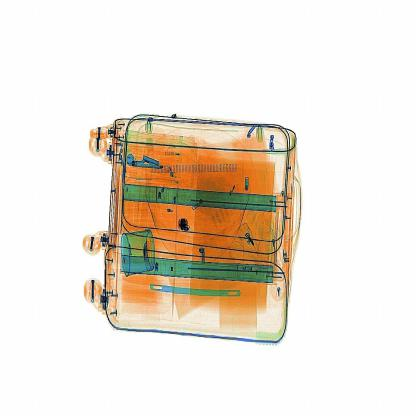scissors: (176, 214, 196, 235)
